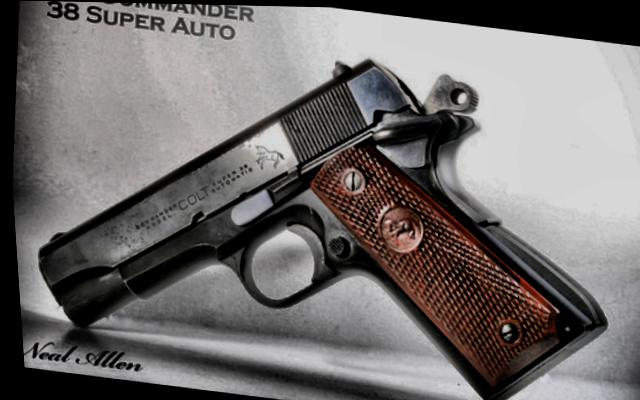pistol: (8, 14, 630, 400)
